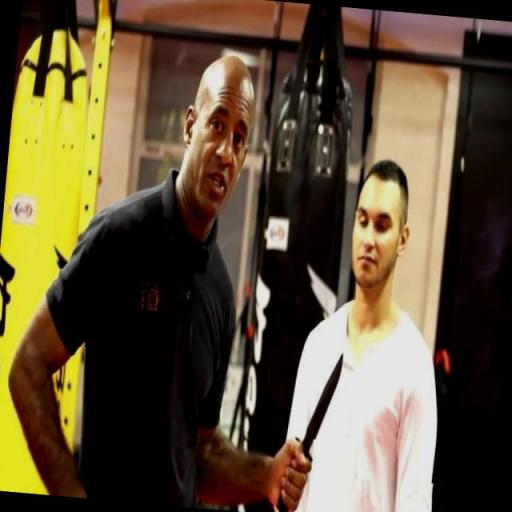knife: (270, 342, 348, 512)
